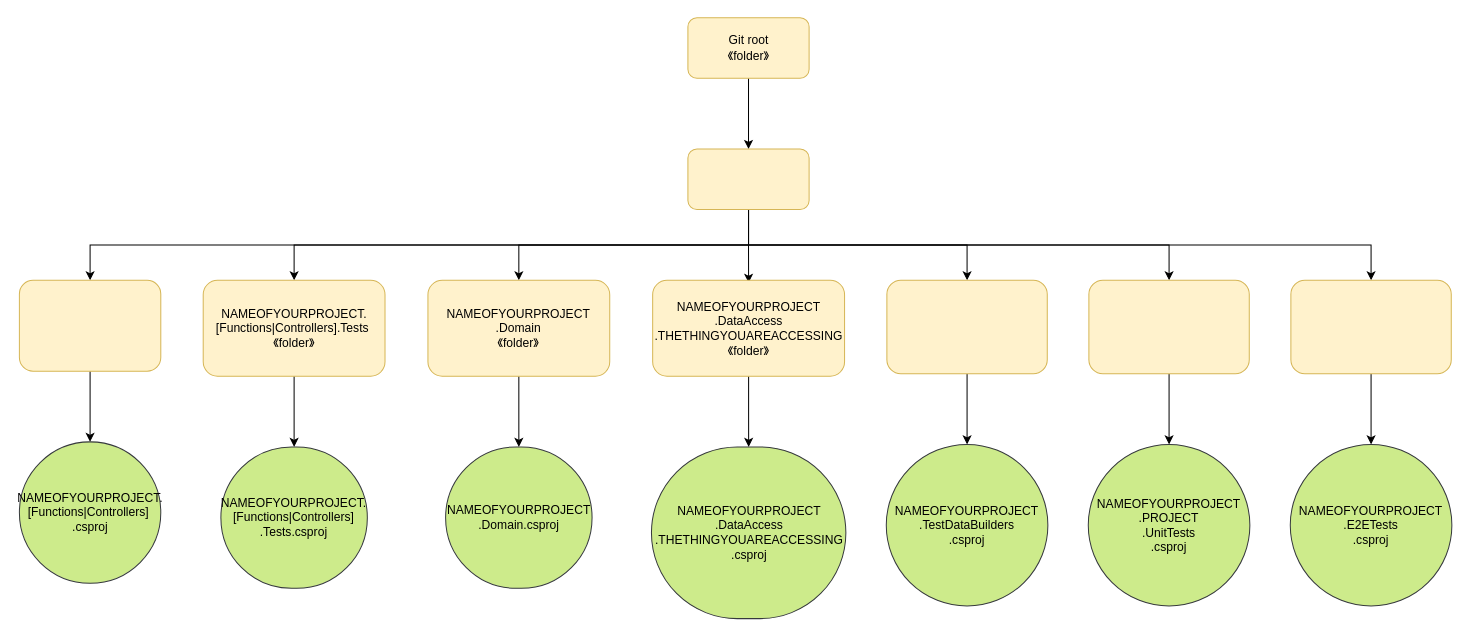
Some shapes in this 1470 by 636 pixel diagram are drawn without their labels. Each missing label, with the centre of its shape:
NAMEOFYOURPROJECT .E2ETests 《folder》: the point at 1370,326
NAMEOFYOURPROJECT .PROJECT .UnitTests 《folder》: the point at 1168,326
NAMEOFYOURPROJECT .TestDataBuilders 《folder》: the point at 966,326
NAMEOFYOURPROJECT.[Functions|Controllers] 《folder》: the point at 89,325
Projects 《folder》: the point at 748,179
